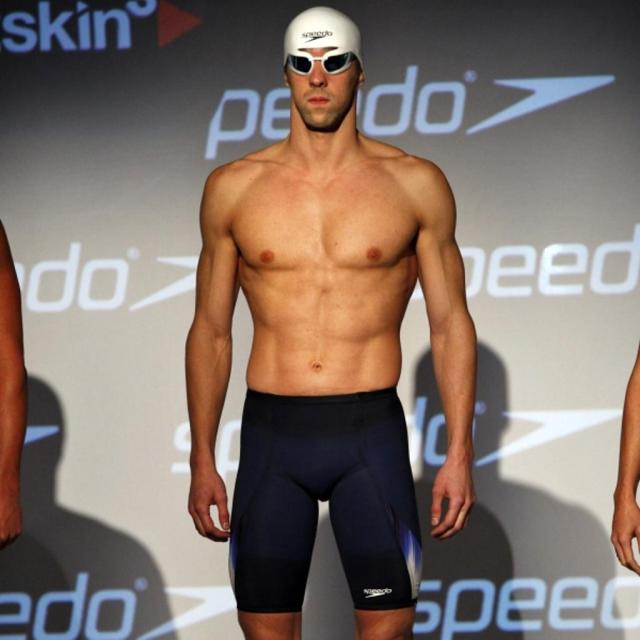Face: (286, 31, 364, 134)
